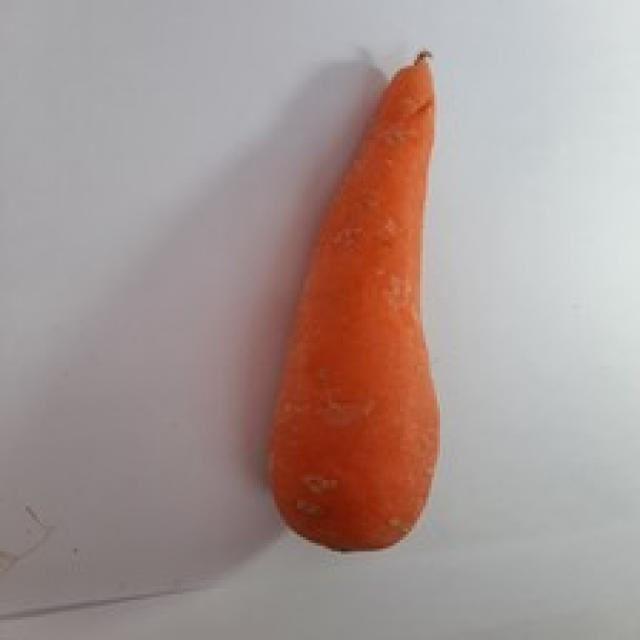carrot: (266, 56, 444, 552)
